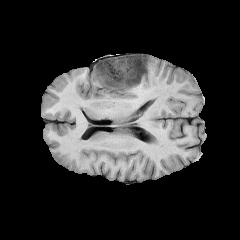glioma: (95, 56, 148, 90)
